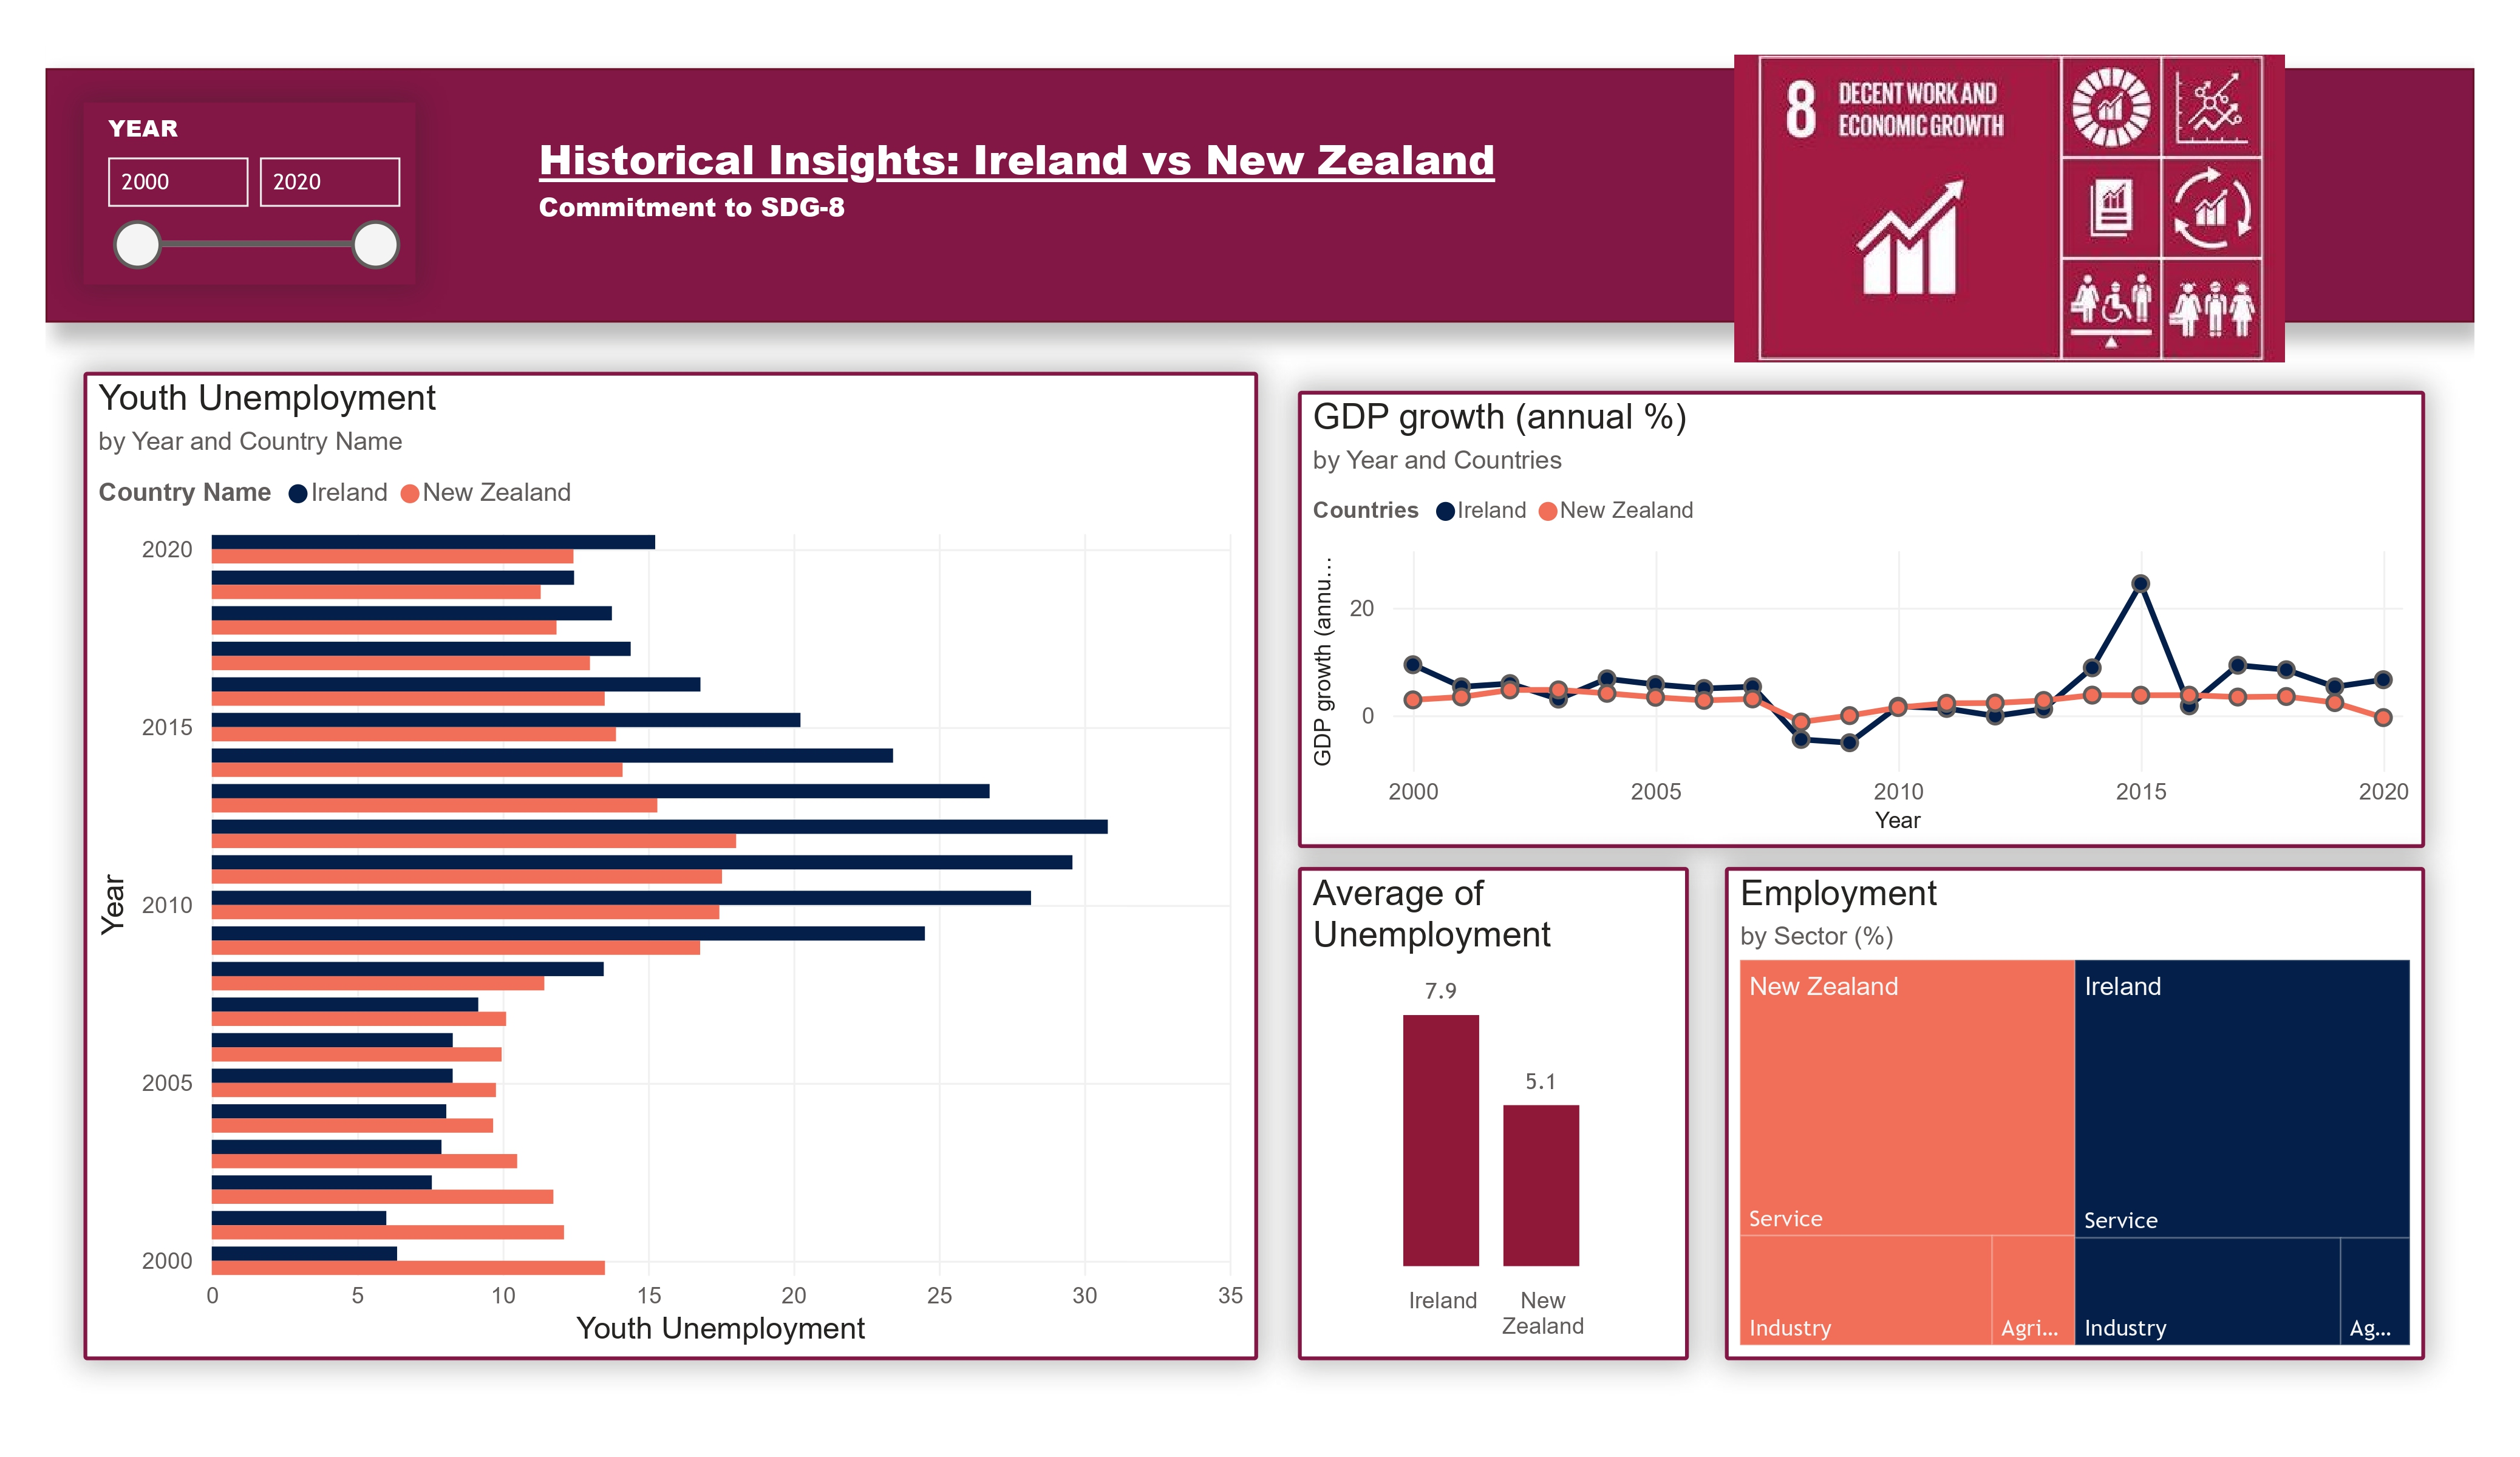

What the dashboard file says about the page in this screenshot:
{"tool":"powerbi","page":{"name":"Ireland VS New Zealand","canvas":[1280,720],"ordinal":2},"visuals":[{"type":"shape","box":[0,12.4,1280,133.1],"z":0},{"type":"textbox","box":[255.5,40.4,610.6,76.5],"z":1000},{"type":"slicer","fields":{"Values":["Ireland_India_NewZealand_DATAaa.Year"]},"box":[19.9,29.9,175.4,95.8],"z":2000},{"type":"image","box":[884.8,0,300.2,171.8],"z":3000},{"type":"lineChart","fields":{"Y":["Sum(Ireland_India_NewZealand_DATA.GDP growth (annual %))"],"Category":["Ireland_India_NewZealand_DATAaa.Year"],"Series":["Ireland_India_NewZealand_DATAaa.Country Name"]},"box":[659.6,181.9,594.7,241],"z":4000},{"type":"clusteredBarChart","fields":{"Category":["Ireland_India_NewZealand_DATAaa.Year"],"Series":["Ireland_India_NewZealand_DATA.Country Name"],"Y":["Sum(Ireland_India_NewZealand_DATA.Unemployment, youth total (% of total labor force ages 15-24) (modeled ILO estimate))"]},"box":[20.2,171.8,619.2,521.1],"z":5000},{"type":"treemap","title":"Employment","fields":{"Values":["Avg(Ireland_India_NewZealand_DATAaa.Employment in agriculture (% of total employment) (modeled ILO estimate))","Avg(Ireland_India_NewZealand_DATAaa.Employment in industry (% of total employment) (modeled ILO estimate))","Avg(Ireland_India_NewZealand_DATAaa.Employment in services (% of total employment) (modeled ILO estimate))"],"Group":["Ireland_India_NewZealand_DATAaa.Country Name"]},"box":[884.8,433,369.5,259.8],"z":6000},{"type":"clusteredColumnChart","title":"Average of Unemployment","fields":{"Category":["Ireland_India_NewZealand_DATAaa.Country Name"],"Y":["Avg(Ireland_India_NewZealand_DATAaa.Unemployment, total (% of total labor force) (modeled ILO estimate))"]},"box":[659.6,433,206.4,259.8],"z":7000}]}

Visuals, with their boxes on the page's 1280x720 design canvas (x1, y1, x2, y2). These are canvas units, not pixel positions in the 2520x1457 screenshot, which may show the page scaled, cropped or inside an application window:
shape: box=[0, 12, 1280, 146]
textbox: box=[256, 40, 866, 117]
slicer - Ireland_India_NewZealand_DATAaa.Year: box=[20, 30, 195, 126]
image: box=[885, 0, 1185, 172]
lineChart - Sum(Ireland_India_NewZealand_DATA.GDP growth (annual %)) x Ireland_India_NewZealand_DATAaa.Year: box=[660, 182, 1254, 423]
clusteredBarChart - Ireland_India_NewZealand_DATAaa.Year x Ireland_India_NewZealand_DATA.Country Name: box=[20, 172, 639, 693]
"Employment" treemap: box=[885, 433, 1254, 693]
"Average of Unemployment" clusteredColumnChart: box=[660, 433, 866, 693]
